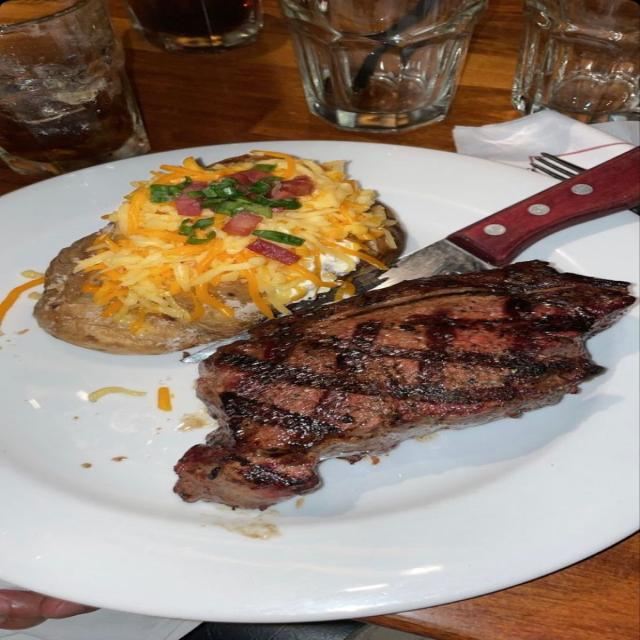beef steak: (174, 261, 633, 509)
boiled potato: (37, 231, 263, 355), (34, 232, 260, 354), (365, 227, 404, 263)
